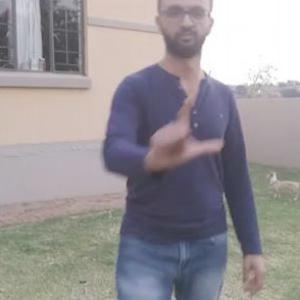land_hand: (143, 87, 224, 171)
